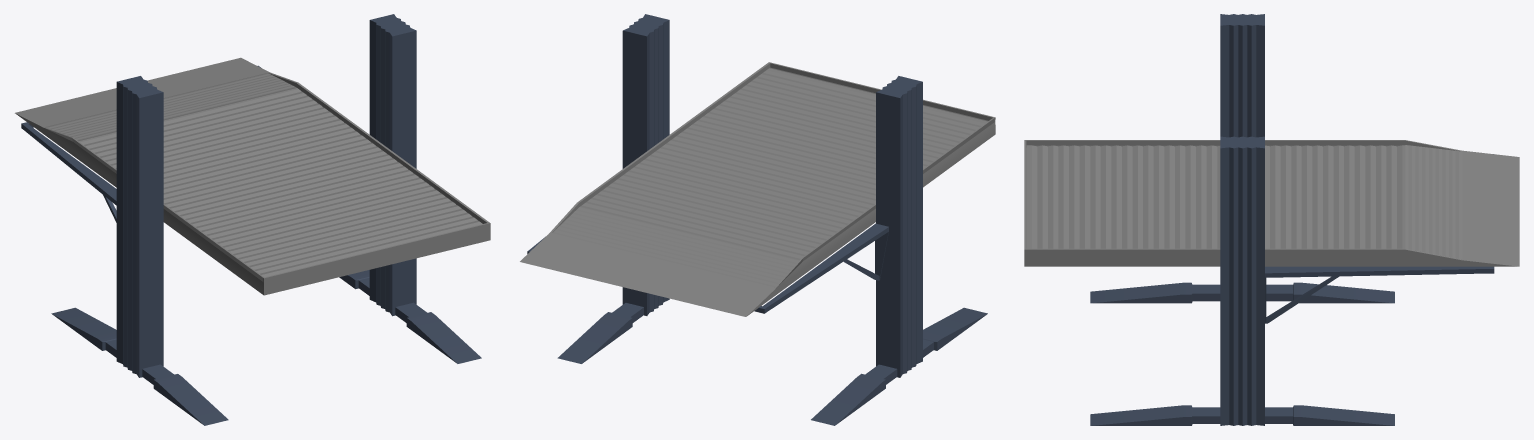
Rendered from Lift.fbx.
3 renders of one model, left to right at view 1: azimuth 30°, elevation 25°; view 2: azimuth 150°, elevation 25°; view 3: azimuth 270°, elevation 25°, orthographic.
Visible parts, largest first — view 1: Platform, Lift; view 2: Platform, Lift; view 3: Platform, Lift.
Boxes of the visible parts, bbox=[...] form: Platform: bbox=[15, 57, 490, 295]; Lift: bbox=[51, 14, 481, 425]; Platform: bbox=[520, 62, 995, 316]; Lift: bbox=[557, 14, 987, 425]; Platform: bbox=[1024, 140, 1519, 323]; Lift: bbox=[1090, 14, 1394, 425].
Size of the model in its own units: 1369 by 1319 by 2131.
